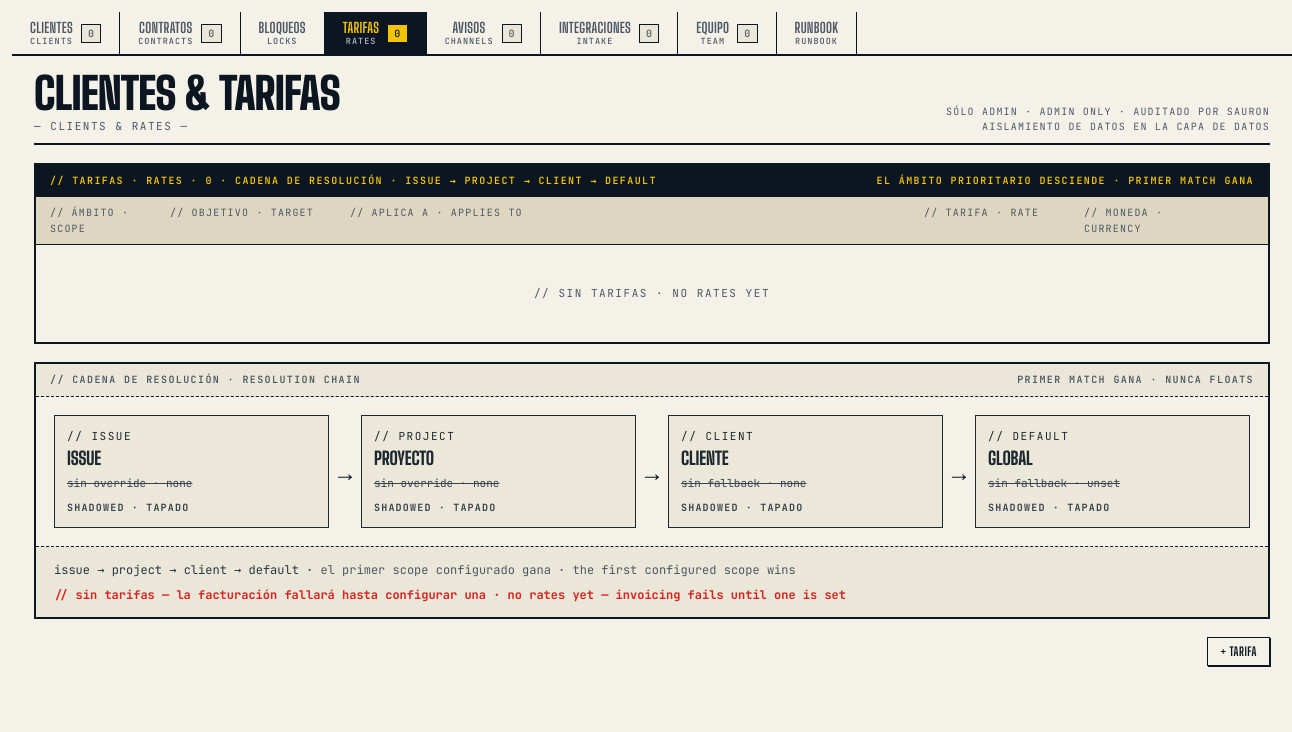
Test: SettingsPage › cancels the rate form
expect the text "// sin tarifas · no rates yet" is shown: met, box 534,285 -> 770,302
What coordinates should you click on to do the following:
click the button "+ Tarifa"
I would click on:
 (1239, 651)
Its box is 1207,637 -> 1270,666.
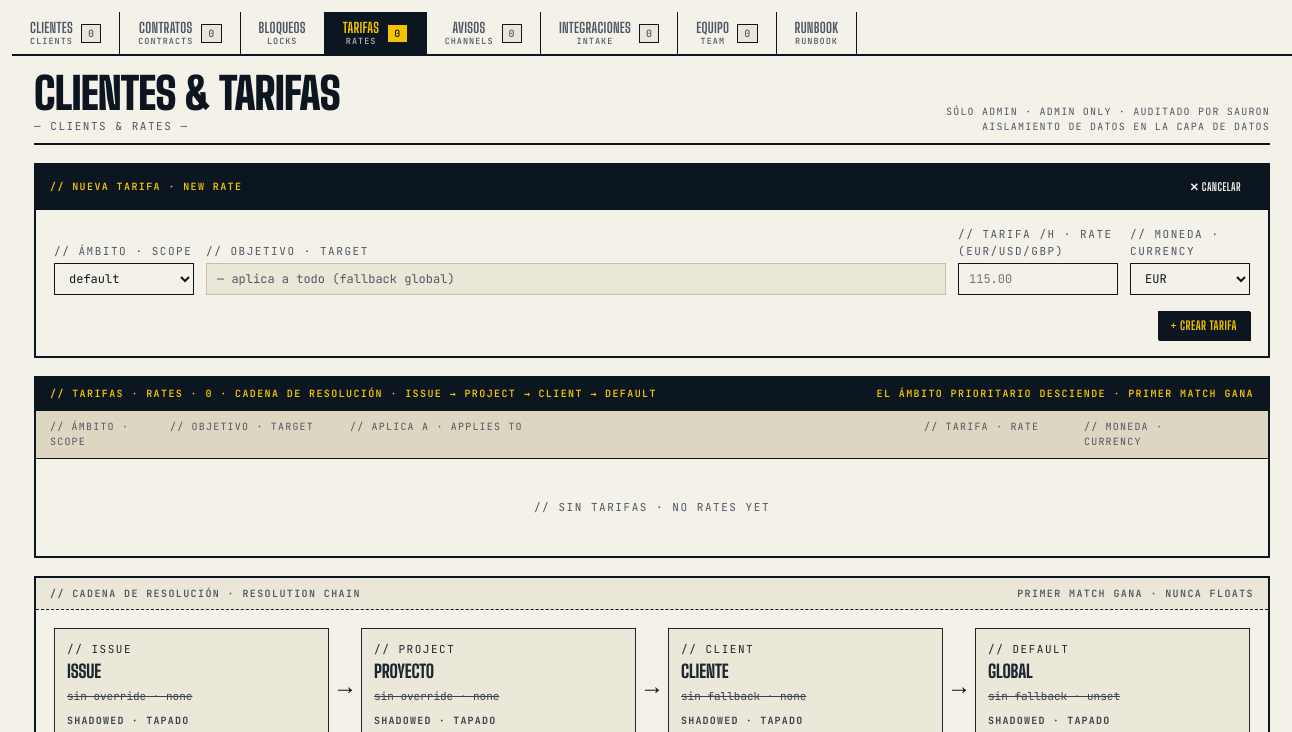
expect the text "// NUEVA TARIFA · NEW RATE" is shown: met, box 50,179 -> 242,194
What coordinates should you click on to do the following:
click the button "✕ cancelar"
I would click on:
 (1215, 187)
Its box is 1176,173 -> 1254,201.
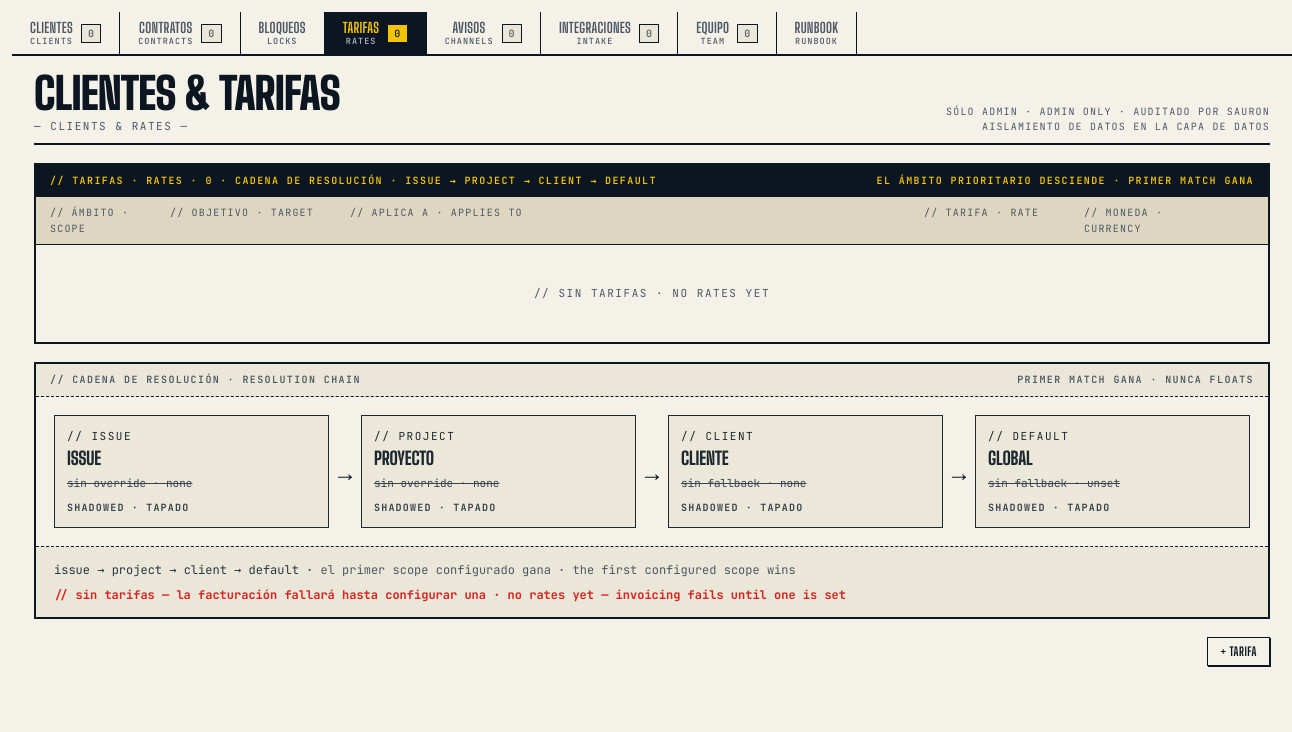
expect the text "// NUEVA TARIFA · NEW RATE" is gone: met
